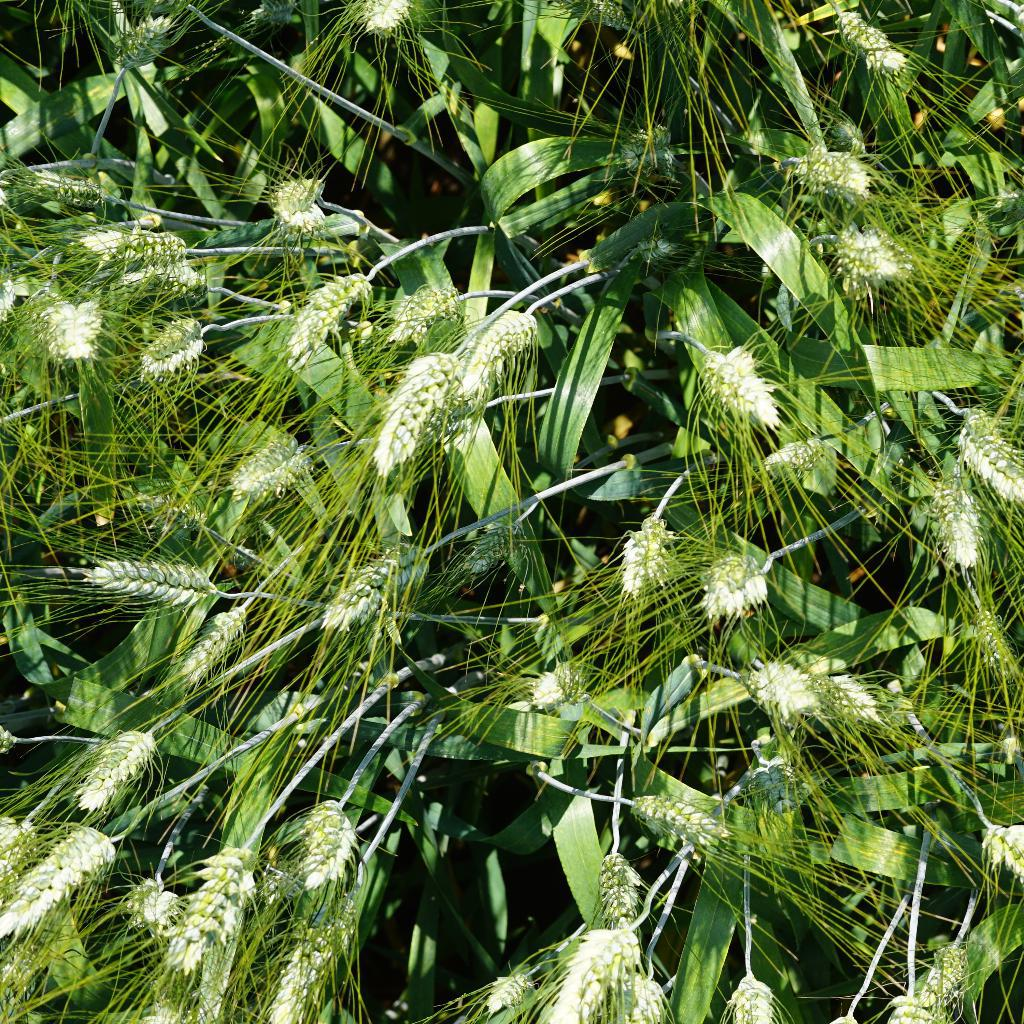0-0: (150, 830, 262, 981), (0, 823, 130, 941), (261, 903, 368, 1023), (538, 909, 635, 1024), (283, 266, 376, 383), (320, 537, 436, 628), (690, 339, 798, 433), (271, 788, 361, 899), (382, 344, 456, 478), (452, 306, 541, 413), (73, 720, 166, 814), (620, 787, 738, 859), (770, 130, 884, 204), (162, 600, 250, 689), (694, 547, 785, 633), (21, 279, 105, 367), (75, 555, 213, 608), (826, 0, 915, 81), (945, 410, 1024, 500), (225, 431, 327, 499), (923, 479, 993, 578), (121, 312, 216, 384), (825, 225, 922, 291), (908, 932, 976, 1024), (0, 917, 65, 1013), (734, 652, 814, 729), (968, 817, 1024, 926), (610, 503, 672, 600), (382, 269, 456, 344), (963, 608, 1024, 698), (744, 743, 817, 818), (256, 167, 332, 239), (803, 671, 879, 742), (72, 224, 189, 268), (460, 520, 529, 593), (107, 9, 184, 74), (591, 842, 646, 932), (111, 259, 214, 307), (609, 113, 679, 183), (18, 159, 105, 215), (119, 872, 184, 943), (473, 949, 538, 1017), (530, 653, 598, 718), (546, 0, 636, 48), (598, 965, 671, 1024), (135, 485, 215, 538), (755, 433, 833, 485), (721, 965, 780, 1024), (968, 163, 1024, 223), (0, 800, 43, 878), (340, 0, 422, 40), (240, 0, 316, 38), (822, 109, 874, 160), (0, 265, 35, 339), (628, 234, 681, 266)
